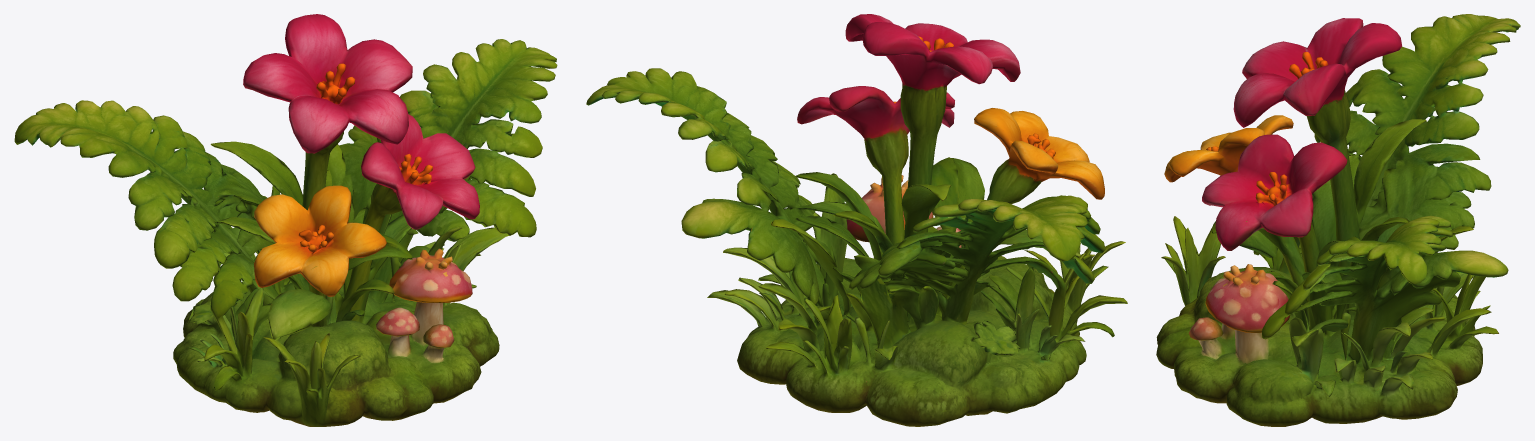
The model's file is map-forest-flower-patch.glb.
3 renders of one model, left to right at view 1: azimuth 30°, elevation 25°; view 2: azimuth 150°, elevation 25°; view 3: azimuth 270°, elevation 25°, orthographic. The views are drawn at different scales.
Size of the model in its own units: 0.9982 by 0.6417 by 0.6164.
1 material, 1 textured.
